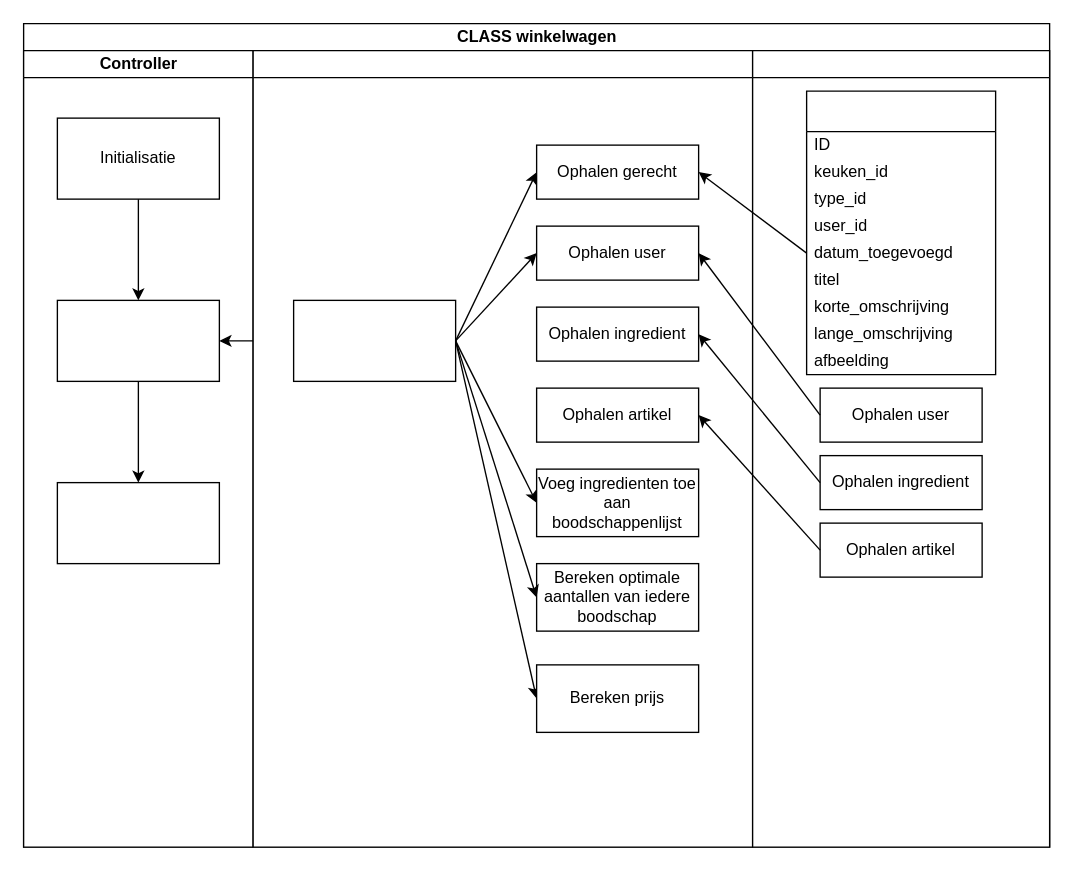
This 1073x871 diagram has some shape labels left out. Each missing label, with the box of its shape:
Business logic: (252, 49, 753, 847)
Gerecht: (805, 90, 996, 375)
Model: (751, 49, 1050, 847)
Ophalen winkelwagen: (292, 299, 456, 381)
Voeg ingredienten toe aan winkelwagen: (56, 299, 219, 381)
Winkelwagen tonen: (56, 481, 219, 564)
